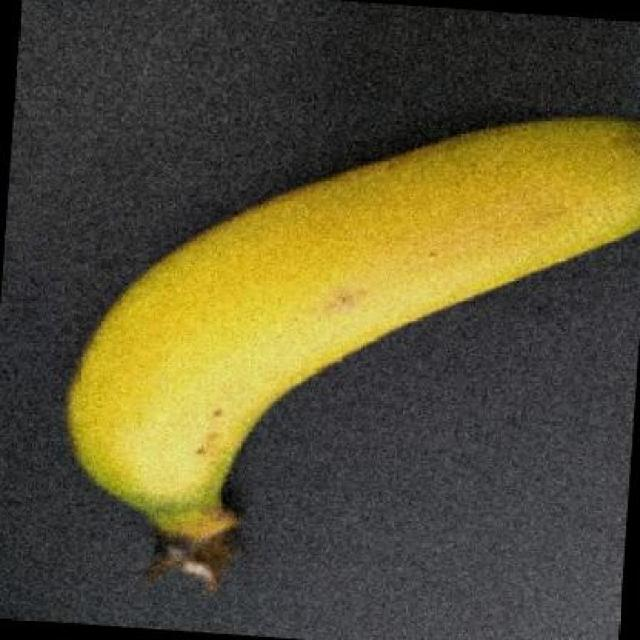Ripe: (18, 64, 640, 603)
